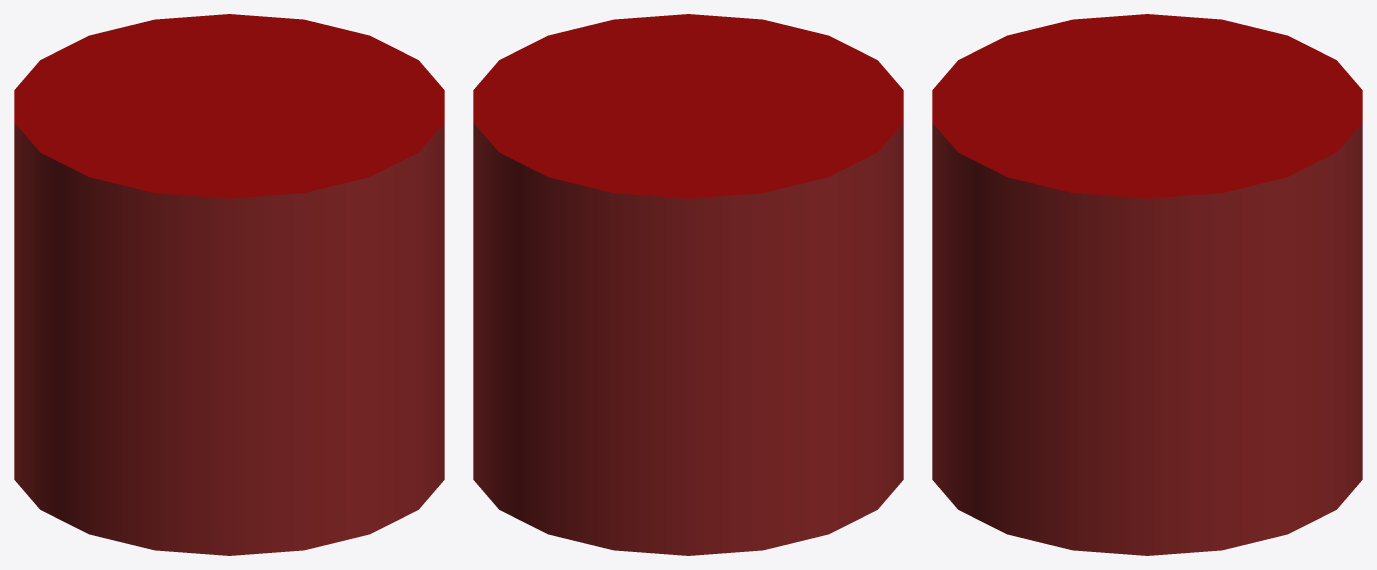
Rendered from Hay.FBX.
The picture shows the model from 3 angles, left to right: view 1: azimuth 30°, elevation 25°; view 2: azimuth 150°, elevation 25°; view 3: azimuth 270°, elevation 25°; orthographic projection.
Parts seen in each view (by area): view 1: Cylinder001; view 2: Cylinder001; view 3: Cylinder001.
Part boxes in pixels (box(x1,y1,x2,y2)): Cylinder001: box(14, 14, 444, 555); Cylinder001: box(473, 14, 903, 555); Cylinder001: box(932, 14, 1362, 555).
Size of the model in its own units: 75.03 by 67.68 by 73.89.
